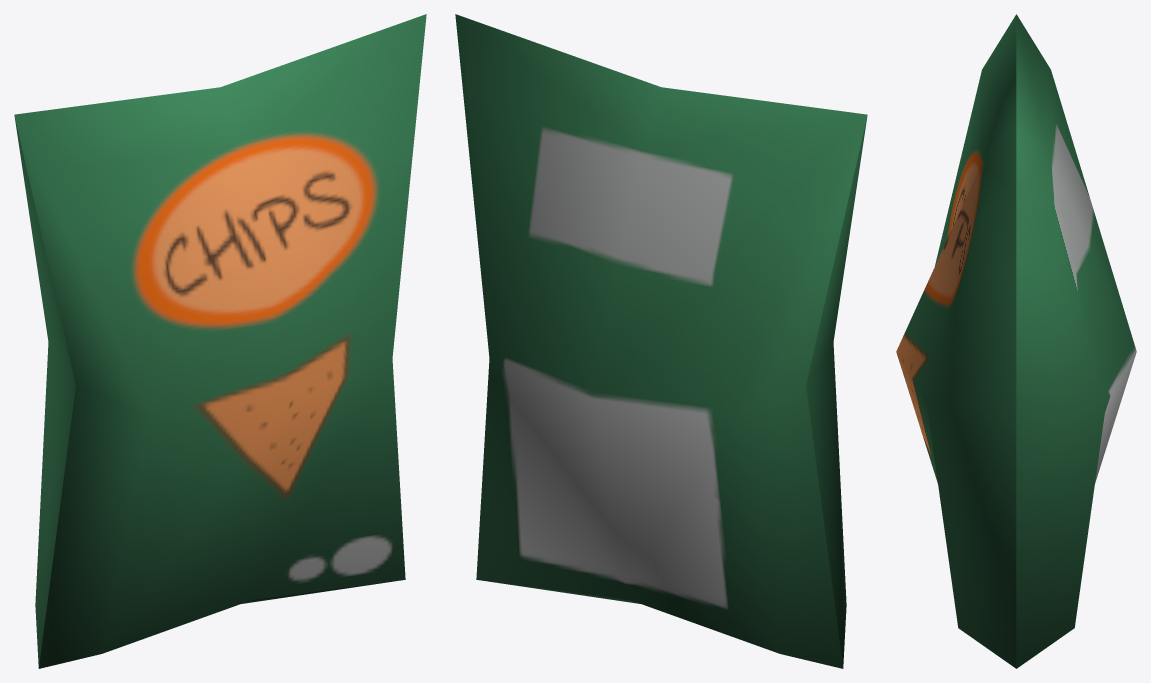
File: Chips_01.fbx
The picture shows the model from 3 angles, left to right: view 1: azimuth 30°, elevation 25°; view 2: azimuth 150°, elevation 25°; view 3: azimuth 270°, elevation 25°; orthographic projection. The views are drawn at different scales.
Visible parts, largest first — view 1: Chips_01; view 2: Chips_01; view 3: Chips_01.
Boxes of the visible parts, left/top/right/bottom form: Chips_01: left=14, top=14, right=426, bottom=668; Chips_01: left=455, top=14, right=867, bottom=668; Chips_01: left=896, top=14, right=1136, bottom=668.
Bounding box in the file's own units: 18.7 × 24.28 × 10.81.
